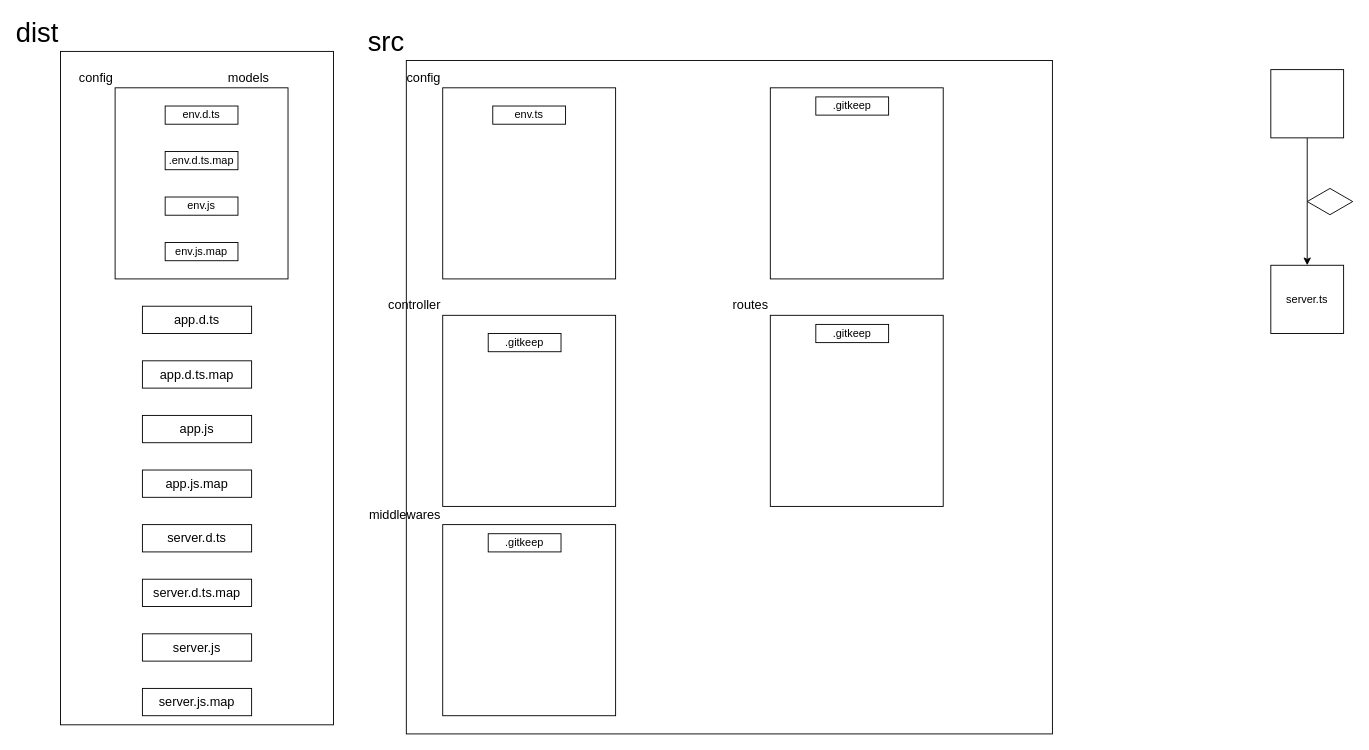
Image size: 1369x750. Some labels were removed from this diagram. Each missing label, with the centre of its shape:
"App" goes at (x=1329, y=201).
"app.ts" goes at (x=1307, y=103).
